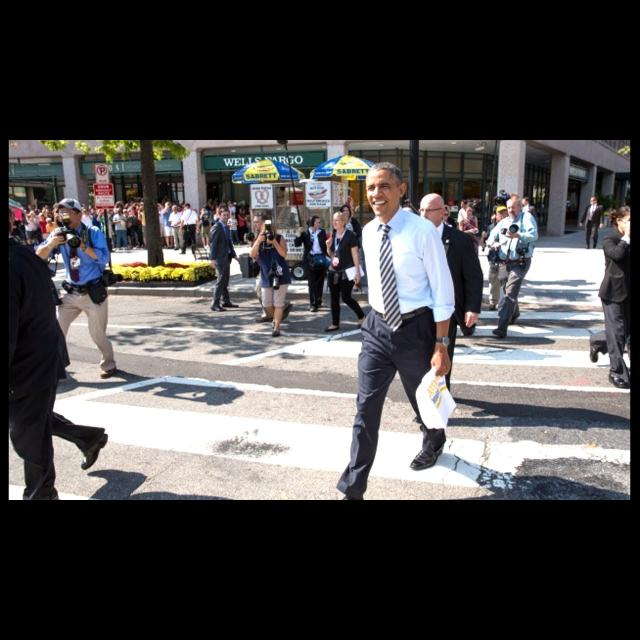head: (366, 161, 408, 217), (419, 192, 445, 228), (59, 198, 83, 230), (615, 207, 637, 235), (0, 206, 16, 240), (261, 223, 277, 245), (506, 198, 522, 220), (253, 213, 269, 231), (333, 213, 347, 230), (495, 207, 509, 223), (439, 206, 451, 222), (219, 208, 231, 222), (309, 215, 321, 229), (340, 206, 352, 218), (464, 205, 474, 217), (461, 201, 469, 209), (522, 198, 530, 206), (590, 197, 598, 205), (183, 204, 191, 212), (164, 202, 172, 210), (172, 205, 178, 213), (46, 218, 52, 226), (238, 209, 244, 215), (228, 201, 234, 207), (201, 208, 207, 214), (159, 204, 165, 210), (123, 210, 129, 216), (231, 213, 235, 219), (118, 209, 122, 215), (86, 209, 90, 215), (40, 214, 44, 220)
person: (400, 192, 484, 432), (28, 197, 124, 383), (483, 193, 541, 339), (244, 212, 294, 324), (324, 210, 368, 334), (248, 219, 292, 337), (479, 205, 518, 311), (292, 215, 334, 313), (208, 206, 244, 314), (331, 204, 363, 292), (432, 205, 458, 293), (458, 203, 480, 280), (579, 196, 605, 250), (516, 196, 538, 254), (179, 202, 201, 256), (457, 198, 475, 258), (168, 204, 186, 252), (119, 208, 137, 250), (113, 207, 129, 251), (78, 208, 94, 252), (162, 200, 176, 250), (36, 212, 52, 252), (46, 217, 62, 255), (225, 200, 238, 244), (152, 202, 164, 248), (200, 206, 212, 250), (227, 210, 241, 246), (236, 208, 248, 245)
